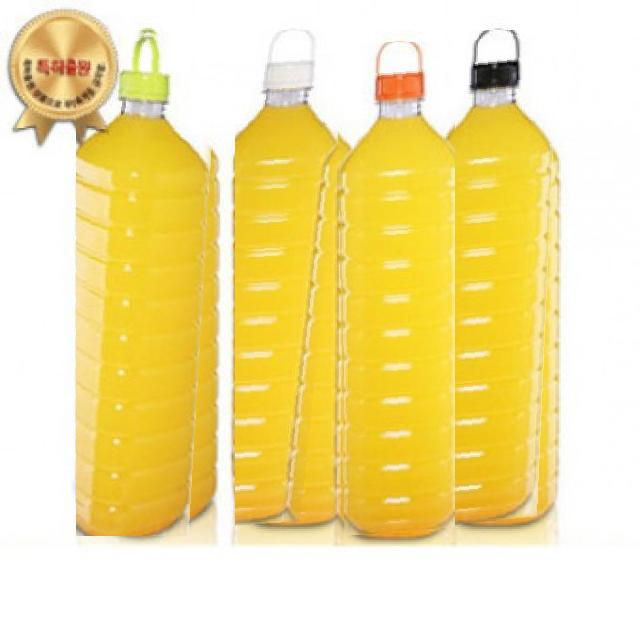plastic bottle: (76, 26, 218, 536), (235, 30, 352, 529), (337, 42, 455, 536), (456, 30, 560, 527)
